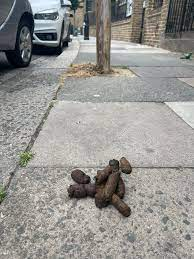Dog: (68, 158, 133, 216)
